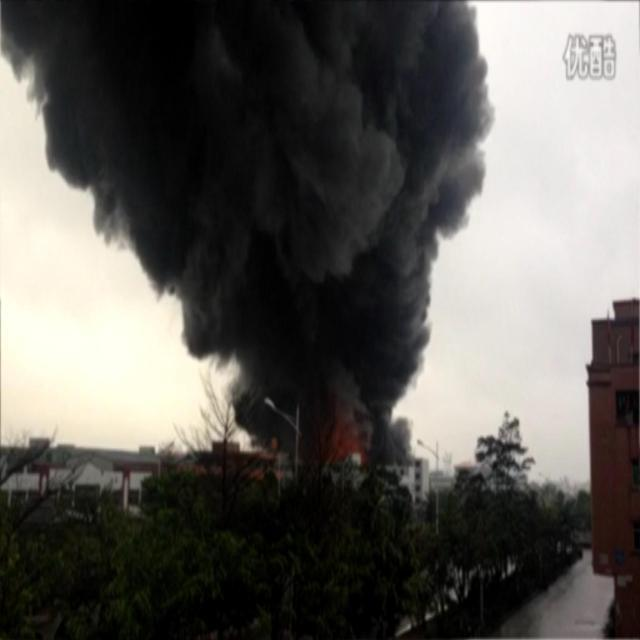Smoke: (0, 1, 496, 467)
